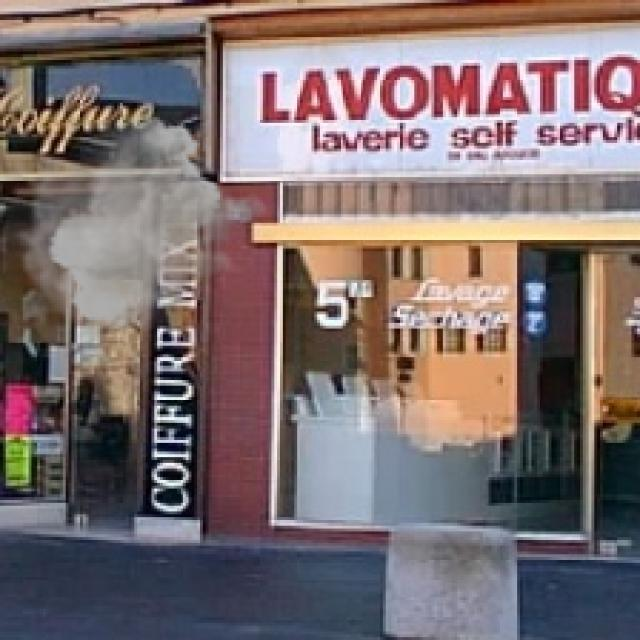smoke: (15, 111, 272, 366)
